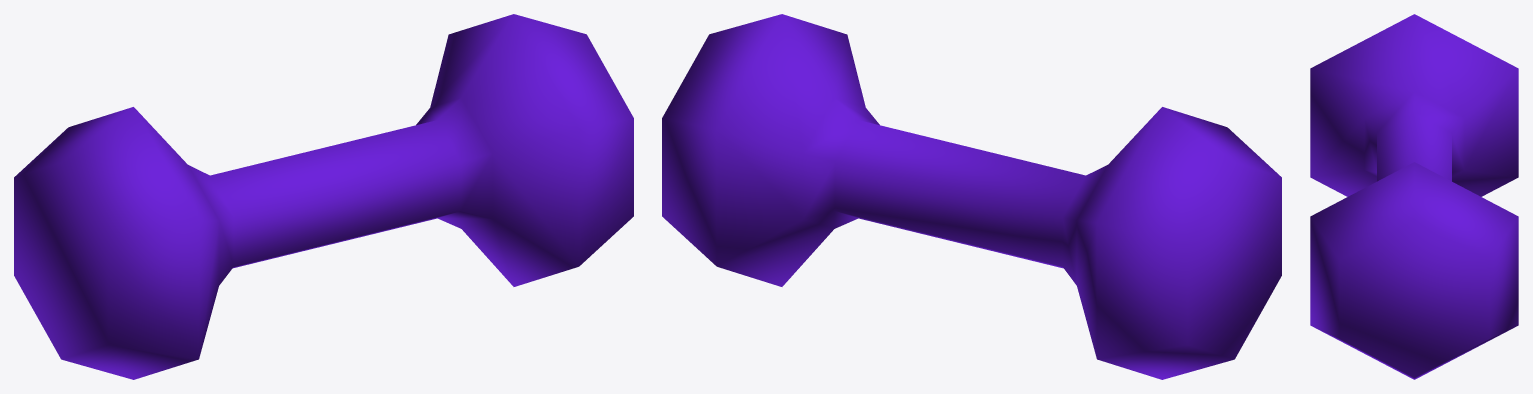
The model's file is Weight_06.FBX.
The picture shows the model from 3 angles, left to right: view 1: azimuth 30°, elevation 25°; view 2: azimuth 150°, elevation 25°; view 3: azimuth 270°, elevation 25°; orthographic projection. The views are drawn at different scales.
Parts seen in each view (by area): view 1: Weight; view 2: Weight; view 3: Weight.
Boxes of the visible parts, x1,y1,x2,y2 form: Weight: (14,14,633,379); Weight: (662,14,1281,379); Weight: (1310,14,1518,379).
Bounding box in the file's own units: 78.32 × 38.91 × 33.69.
